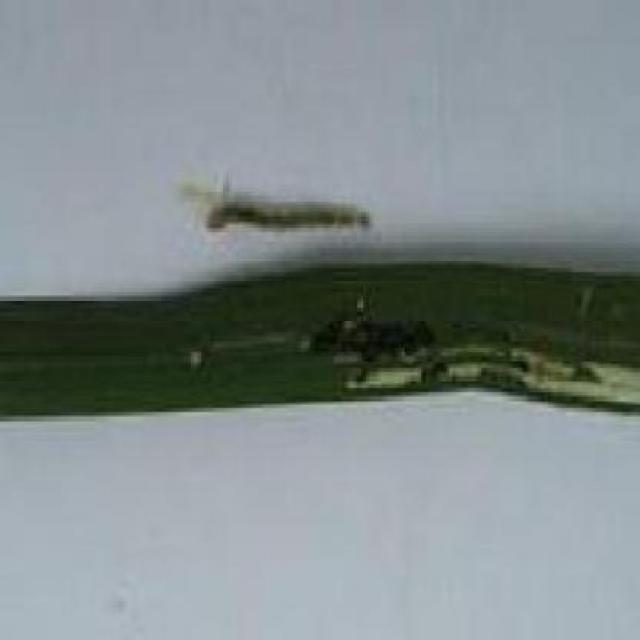leaf-folder: (188, 124, 389, 253)
